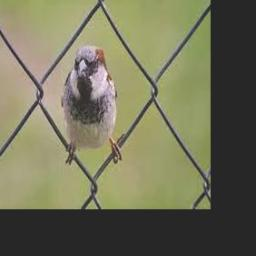Sparrow: (62, 45, 118, 152)
